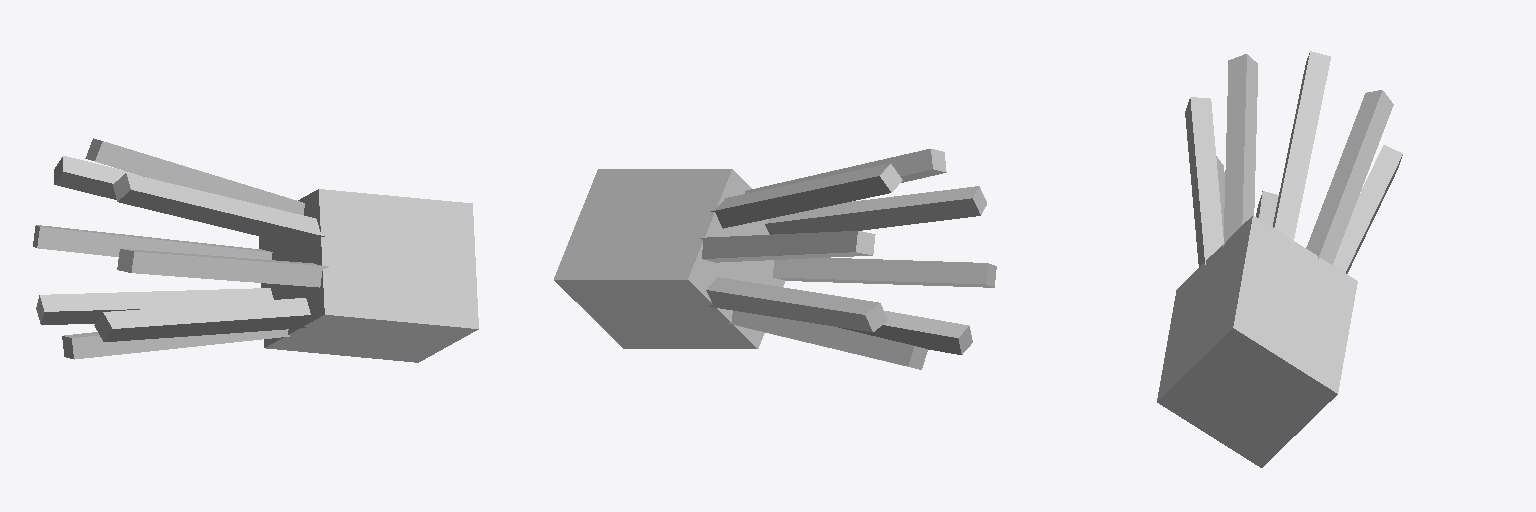
File: squid.obj
The picture shows the model from 3 angles: view 1: azimuth 30°, elevation 25°; view 2: azimuth 150°, elevation 25°; view 3: azimuth 270°, elevation 25°; orthographic projection.
Visible parts, largest first — view 1: squid.obj; view 2: squid.obj; view 3: squid.obj.
Boxes of the visible parts, x1=… form: squid.obj: x1=33, y1=138, x2=478, y2=362; squid.obj: x1=554, y1=149, x2=996, y2=369; squid.obj: x1=1157, y1=51, x2=1402, y2=467.
Bounding box in the file's own units: 41.04 × 27.89 × 22.64.